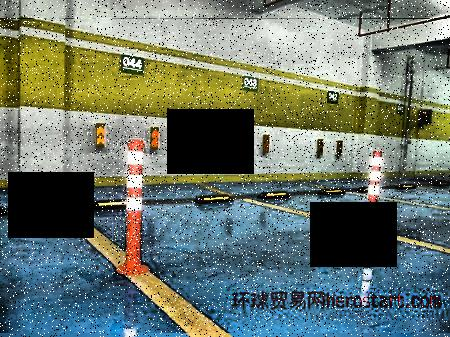bench: (116, 136, 147, 276), (359, 145, 382, 236)
